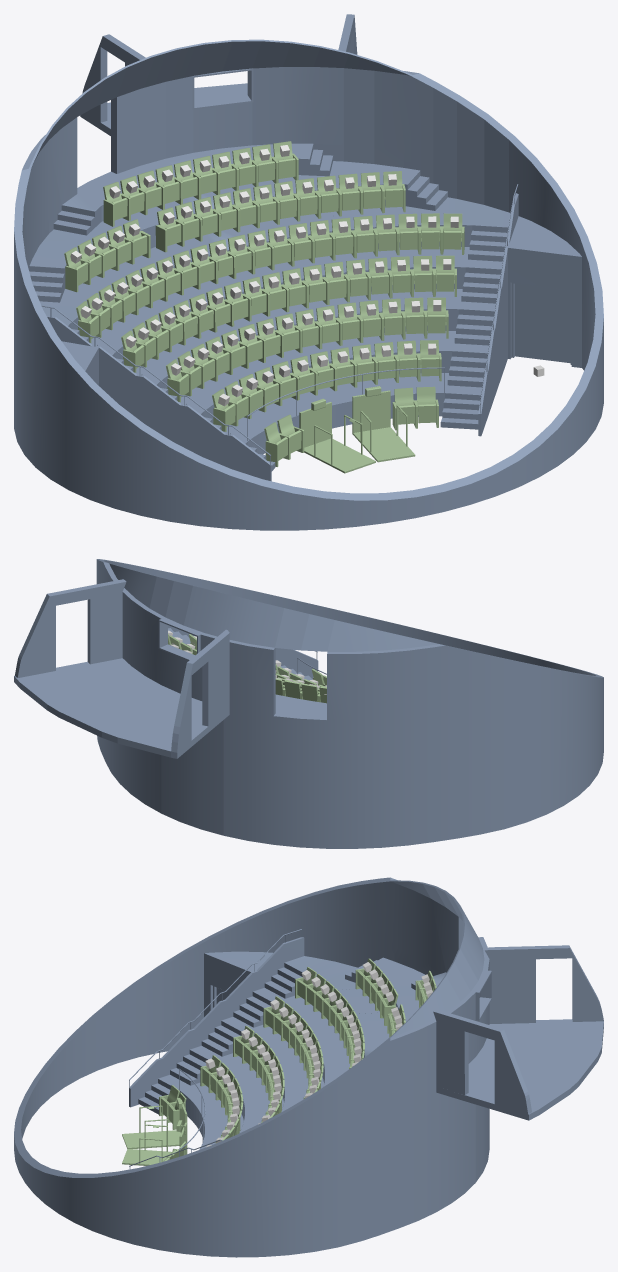
File: wisdome-chairs.glb
The picture shows the model from 3 angles, top to bottom: view 1: azimuth 30°, elevation 25°; view 2: azimuth 150°, elevation 25°; view 3: azimuth 270°, elevation 25°; orthographic projection. The views are drawn at different scales.
Visible parts, largest first — view 1: Main_Structure, Chairs; view 2: Main_Structure, Chairs; view 3: Main_Structure, Chairs.
Boxes of the visible parts, x1,y1,x2,y2 form: Main_Structure: (14,14,603,530); Chairs: (64,141,464,473); Main_Structure: (14,559,603,848); Chairs: (168,634,326,703); Main_Structure: (14,877,603,1257); Chairs: (122,958,436,1165).
Size of the model in its own units: 15.28 by 7.55 by 17.7.
